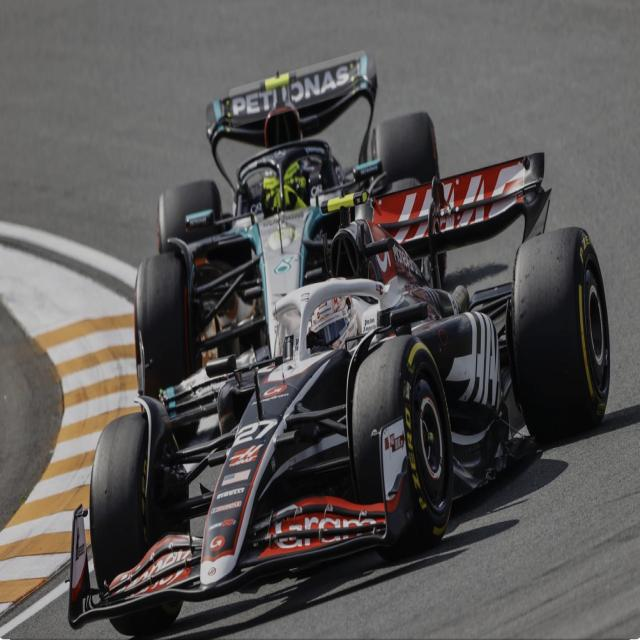Haas: (67, 150, 611, 631)
Mercedes: (134, 51, 446, 394)
